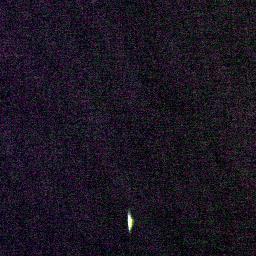Ship: (123, 210, 136, 233)
